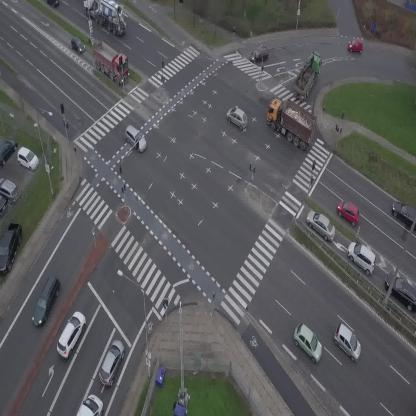car: (27, 274, 64, 328), (51, 308, 90, 359), (287, 321, 330, 364), (95, 337, 129, 388), (342, 237, 384, 277), (328, 322, 368, 362), (301, 205, 342, 243), (333, 196, 365, 227), (120, 124, 151, 154), (224, 104, 252, 131), (66, 34, 87, 57), (250, 46, 269, 61), (348, 39, 362, 53), (45, 0, 59, 7)
lorry: (257, 91, 324, 152), (84, 36, 138, 87), (289, 49, 329, 101), (83, 0, 126, 36), (76, 394, 103, 416)
